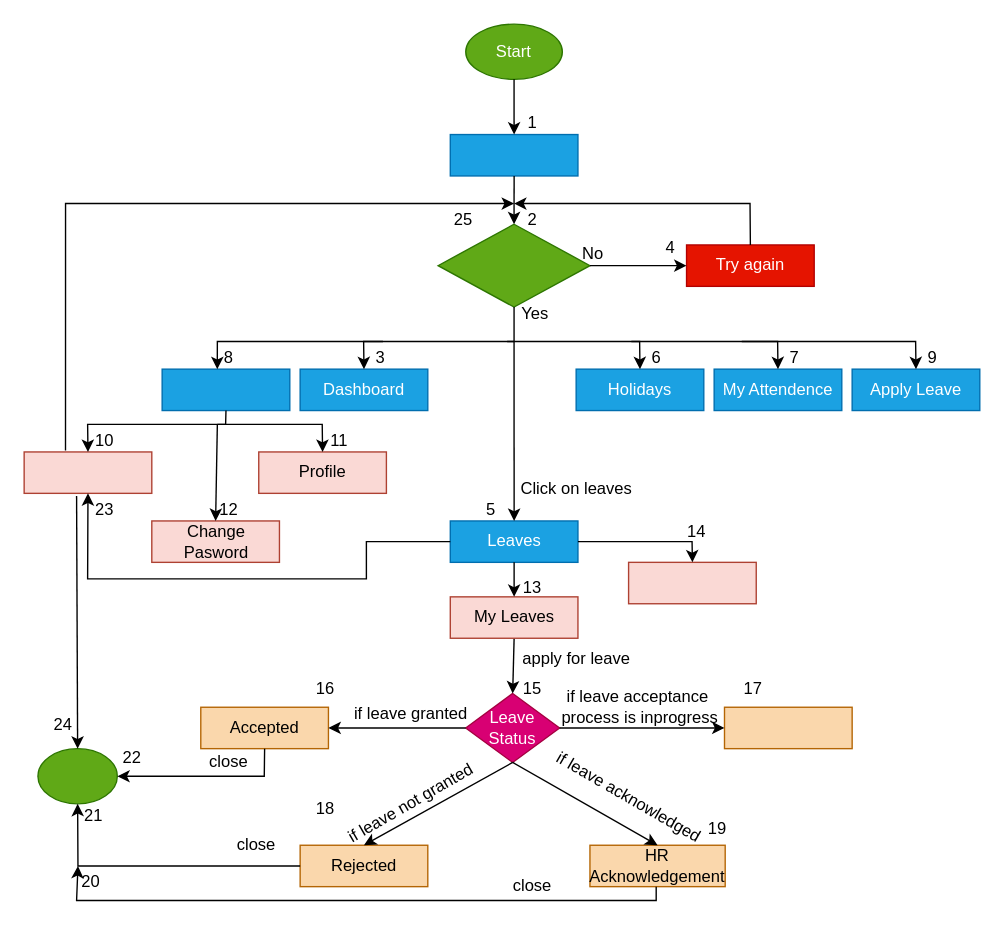
Some shapes in this 1005 by 936 pixel diagram are drawn without their labels. The box of each missing label's shape, as (x1, y1, x2, y2) in pixels:
End: (37, 747, 117, 804)
Leave Rules: (627, 561, 756, 604)
Login with Valid Data: (437, 223, 590, 307)
Logout: (23, 451, 152, 493)
Pending: (723, 706, 852, 749)
Profile Dropdown: (161, 368, 290, 411)
User: (449, 133, 578, 176)
